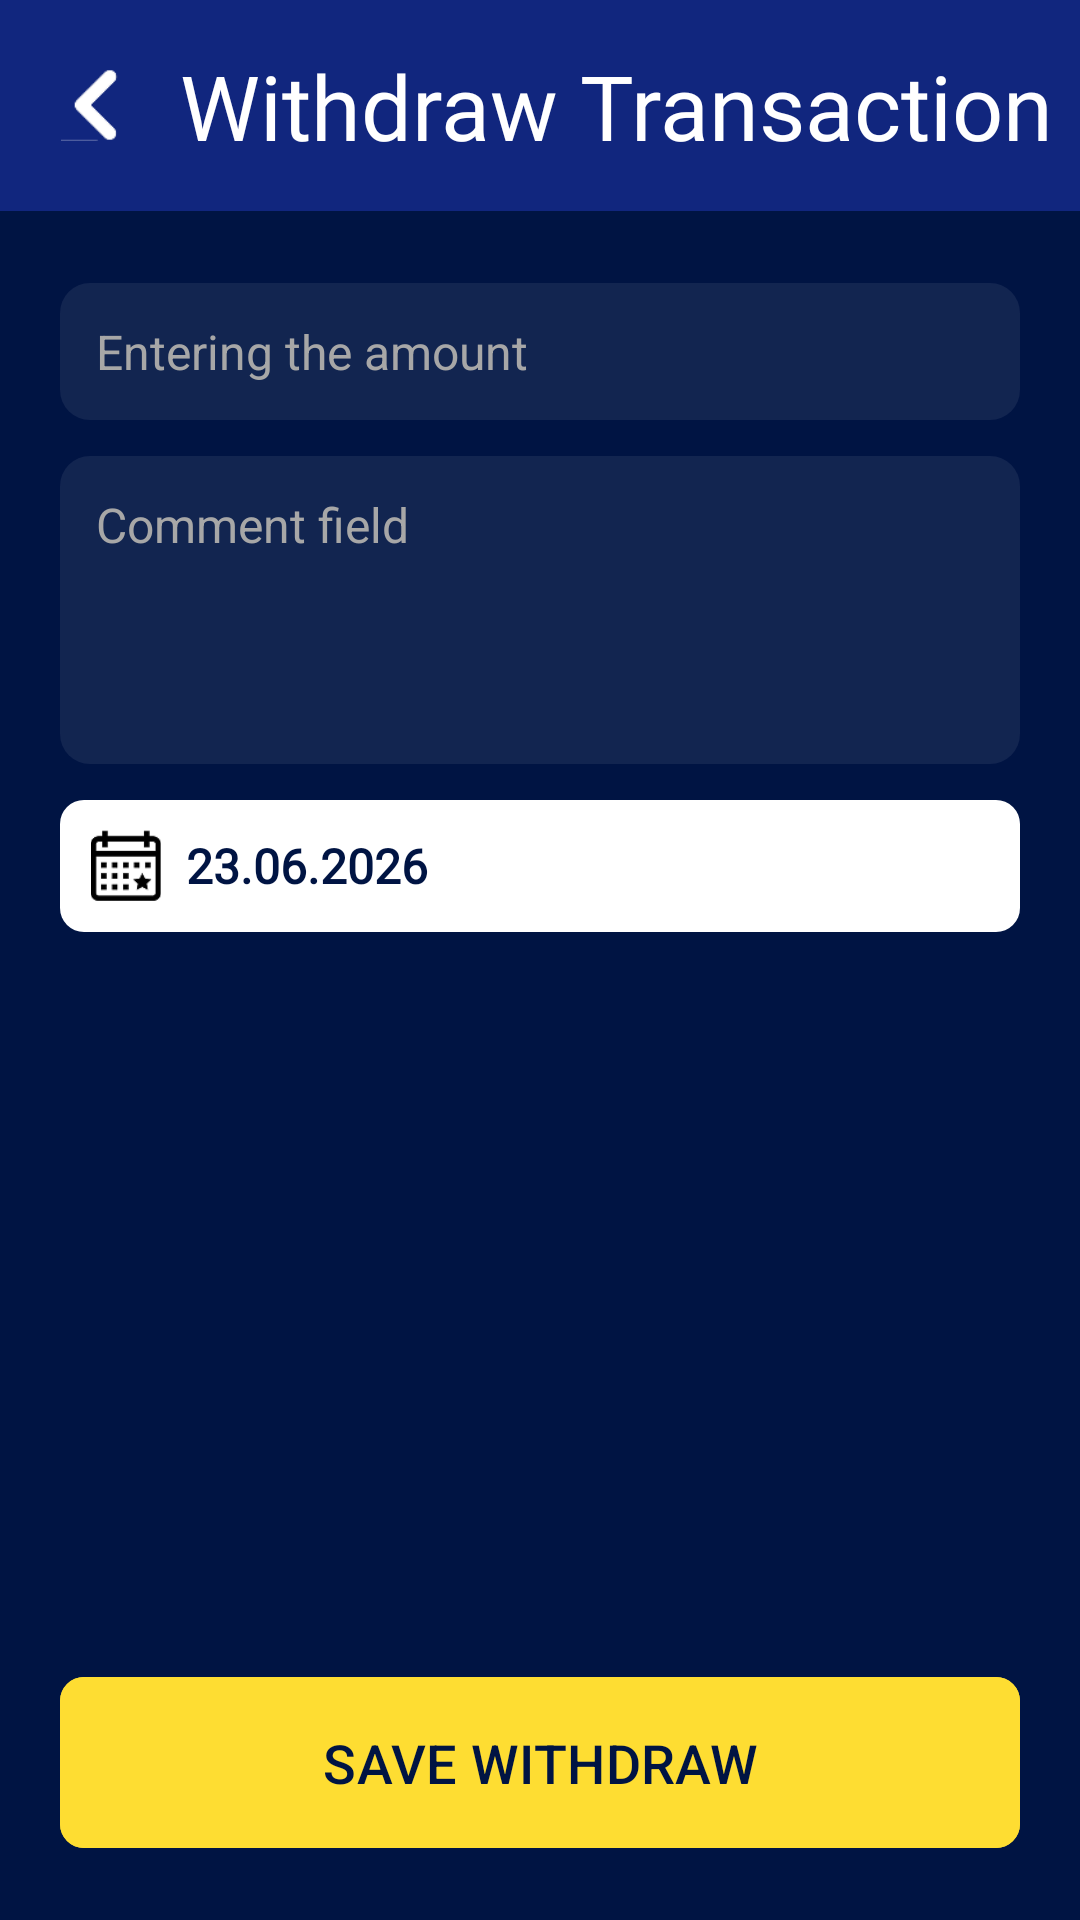

Icon click points for this 1080*1920 phone screenshot, format [x,y]:
back: [89,105]
date: [126,865]
